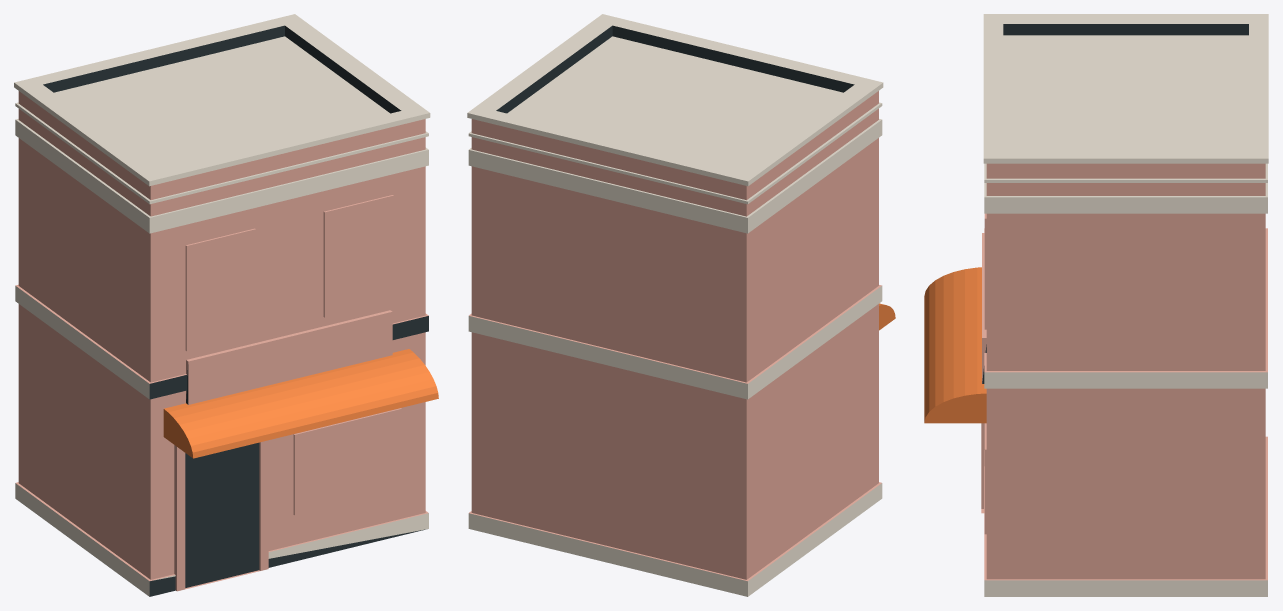
File: ruta_cultura_casa-cultural.glb
The picture shows the model from 3 angles, left to right: view 1: azimuth 30°, elevation 25°; view 2: azimuth 150°, elevation 25°; view 3: azimuth 270°, elevation 25°; orthographic projection. The views are drawn at different scales.
Visible parts, largest first — view 1: Building_Restaurant; view 2: Building_Restaurant; view 3: Building_Restaurant.
Part boxes in pixels (box(x1,y1,x2,y2)): Building_Restaurant: box(14, 14, 438, 596); Building_Restaurant: box(467, 14, 895, 596); Building_Restaurant: box(924, 14, 1268, 596).
Size of the model in its own units: 7.36 by 10.41 by 7.41.
